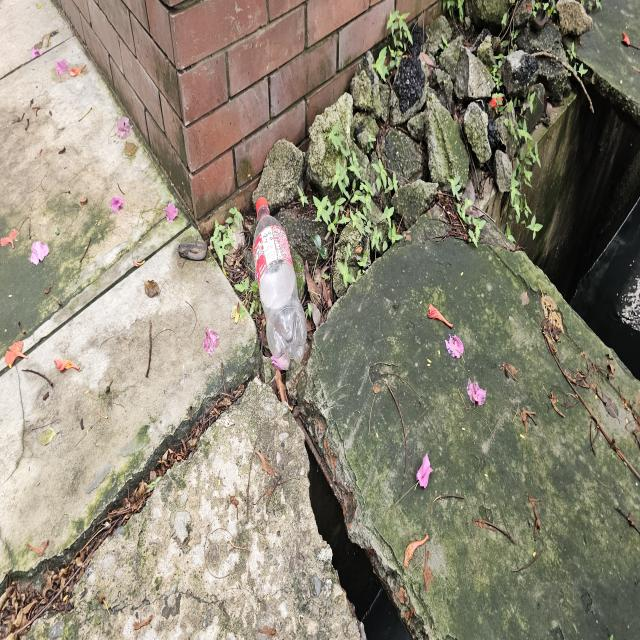artificial_container: (253, 196, 307, 374)
drain_inlet: (481, 71, 640, 381)
